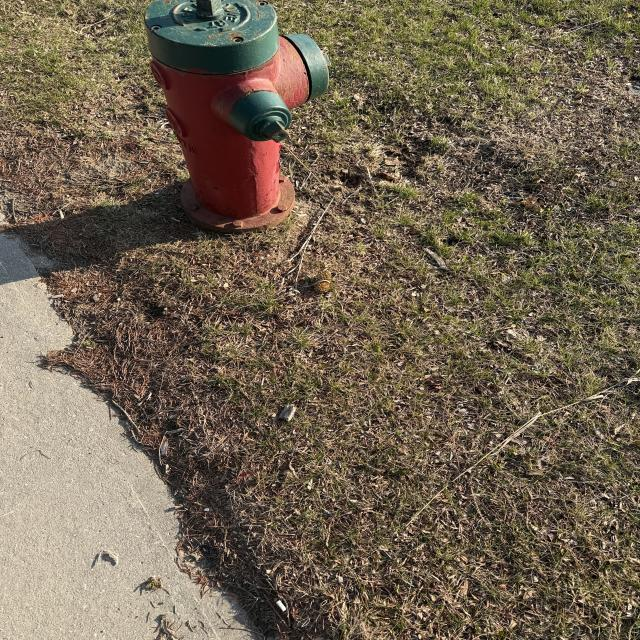Fire hydrant: (142, 0, 332, 235)
